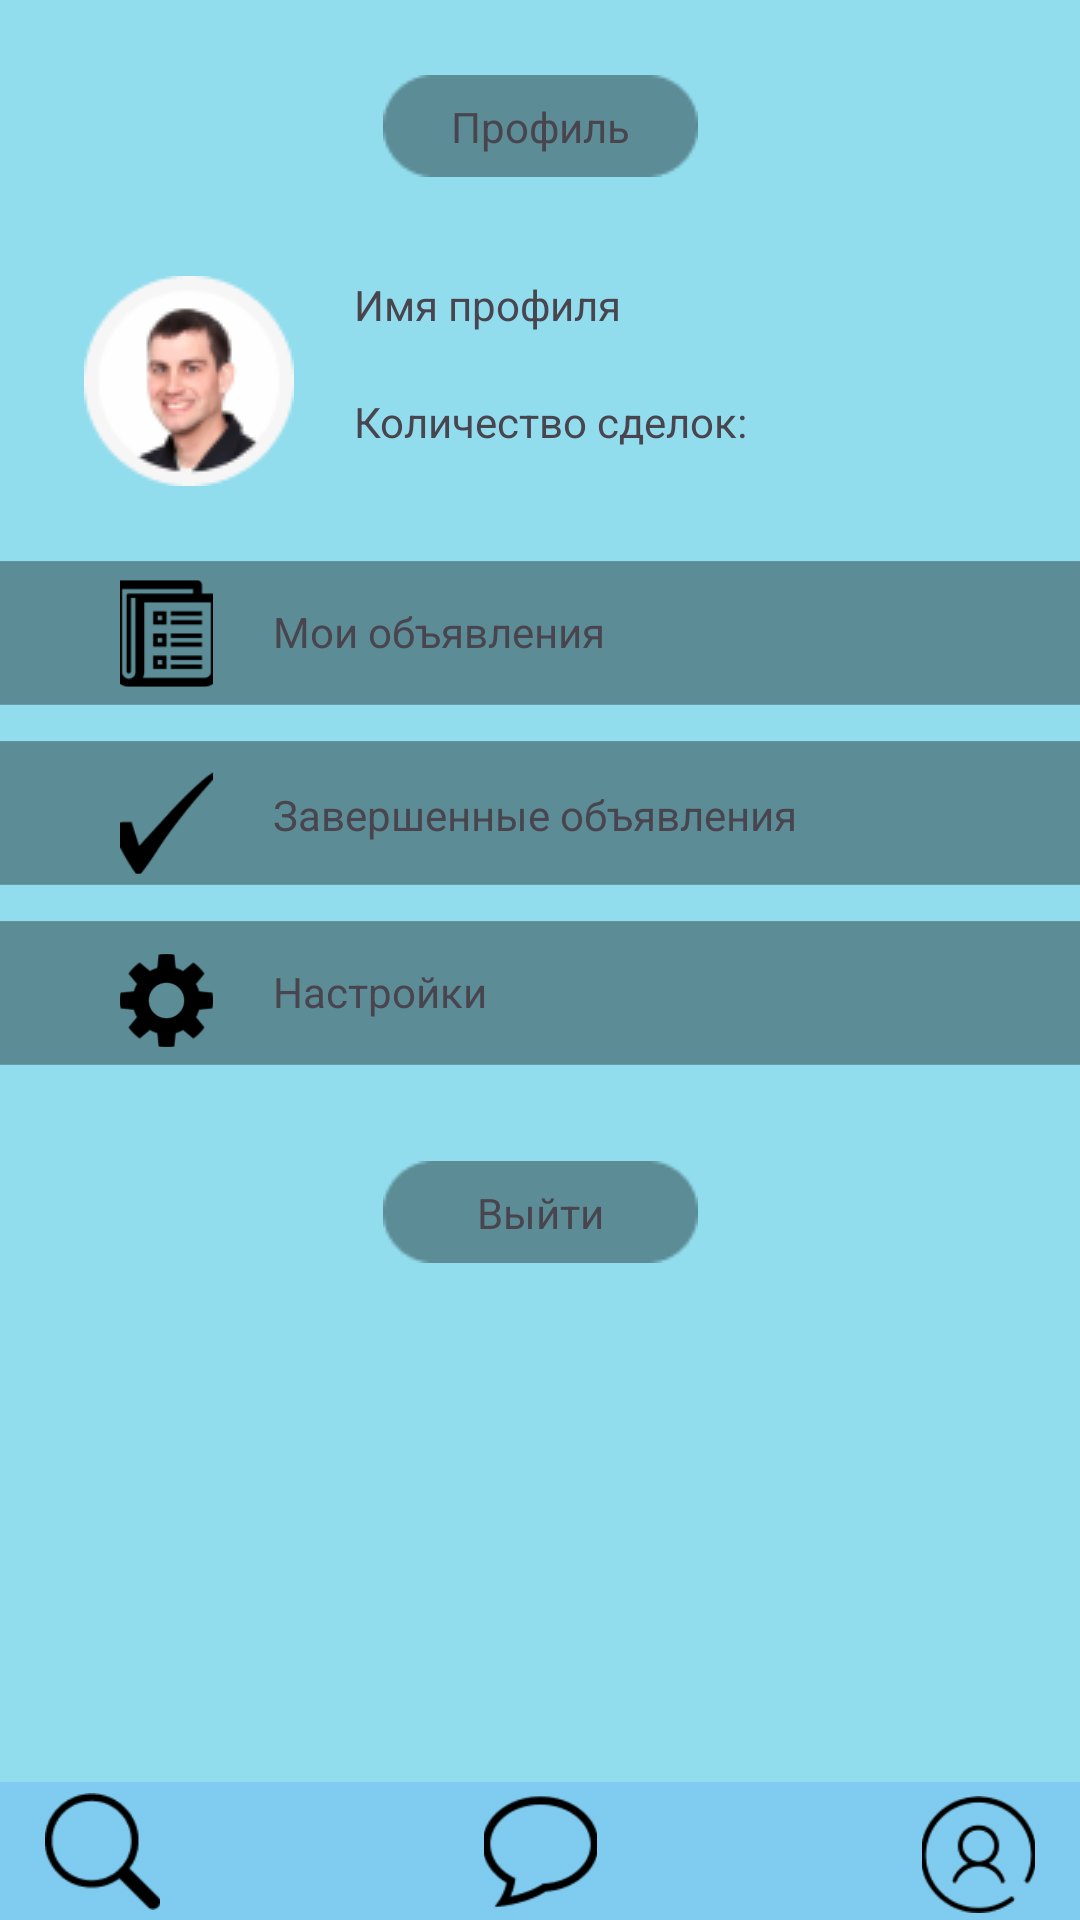

Icon bounding boxes for this 1080×1920 phone screenshot, format bbox=[x1, y1, x2, y2]:
defaultava: bbox=[84, 276, 294, 486]
donedeals: bbox=[120, 772, 213, 874]
messagemenu: bbox=[484, 1796, 597, 1907]
obuavleneie: bbox=[120, 580, 213, 687]
profilemenu: bbox=[922, 1796, 1035, 1913]
searchmenu: bbox=[45, 1793, 160, 1910]
settings: bbox=[120, 954, 213, 1047]
